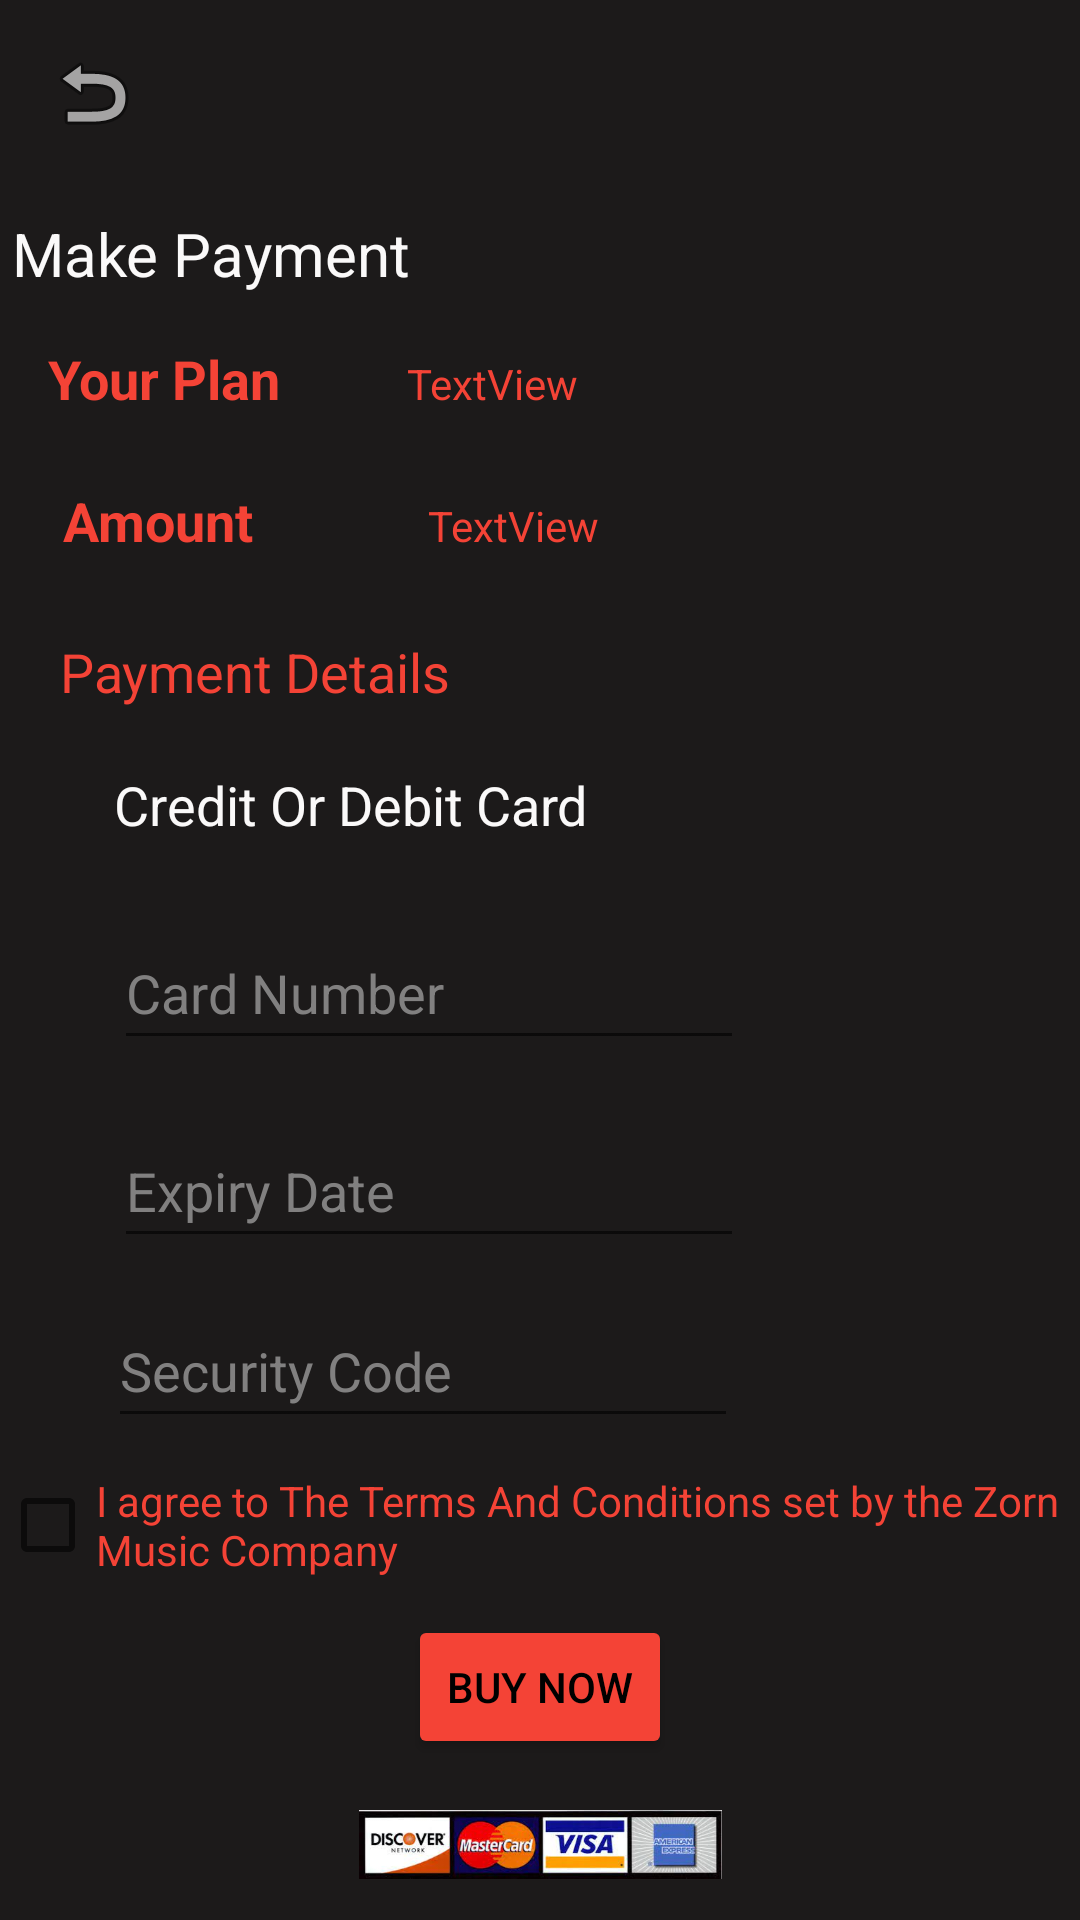

Named icons in this screenshot (1080w x 1920h) and their bounding boxes, (x1, y1, x2, y2):
back: (63, 65, 126, 122)
